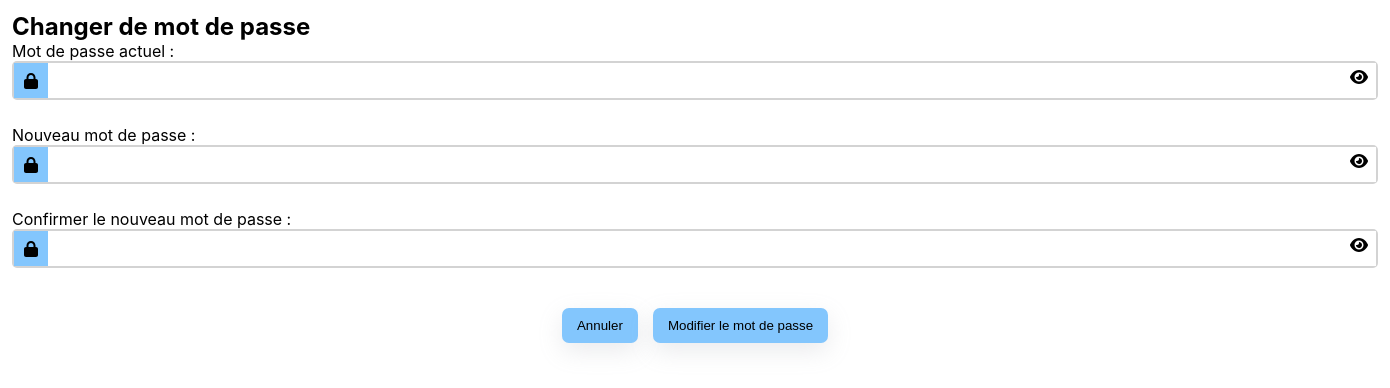
Test case: Modify Account Container › Form submission can't submit updates the error message
Note: Set input values
In the password field with test id "actual-password": (712, 80) [48, 63, 1376, 98], type "actualpassword"
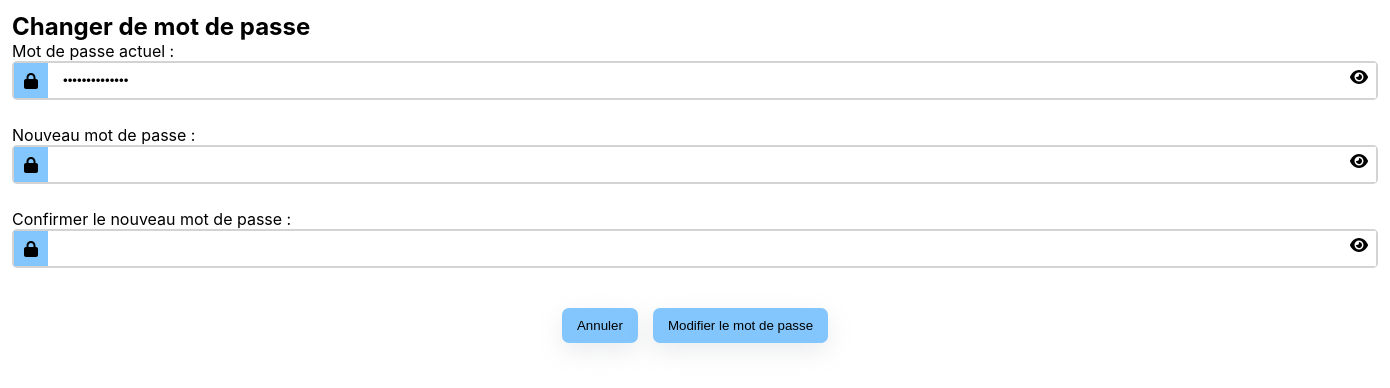
In the password field with test id "new-password": (712, 164) [48, 147, 1376, 182], type "newpassword"
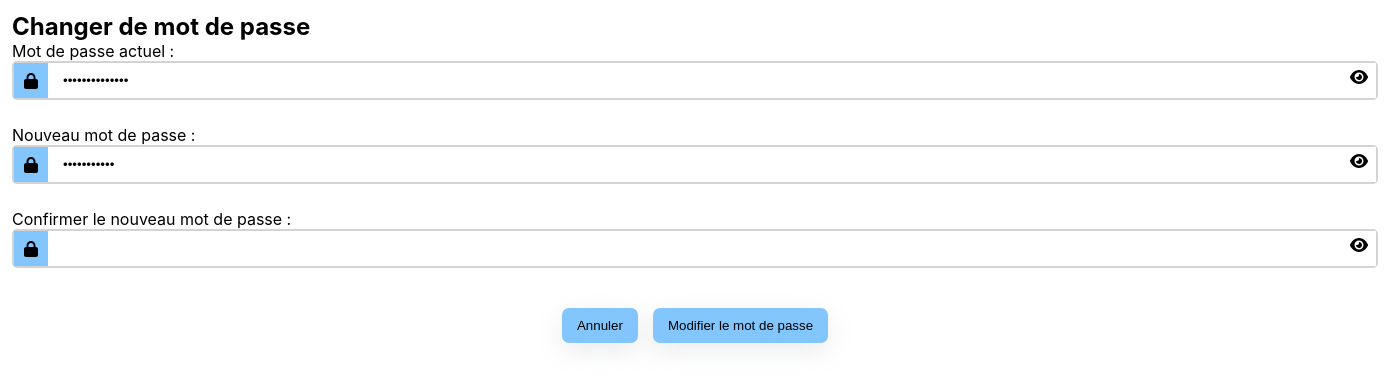
In the password field with test id "confirm-password": (712, 248) [48, 231, 1376, 266], type "newpassword"
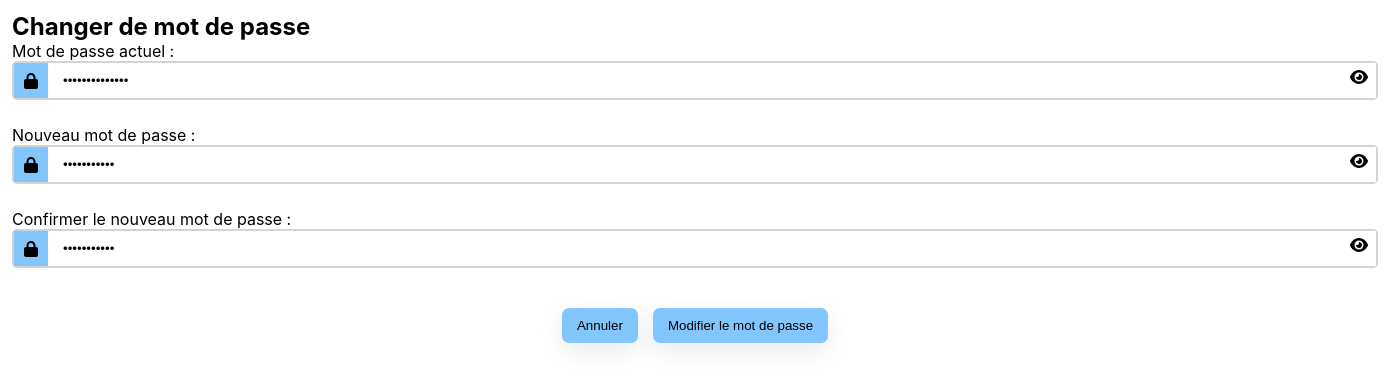
Note: Trigger the form submission
Click the button "Modifier le mot de passe": click(740, 326) [653, 308, 828, 343]
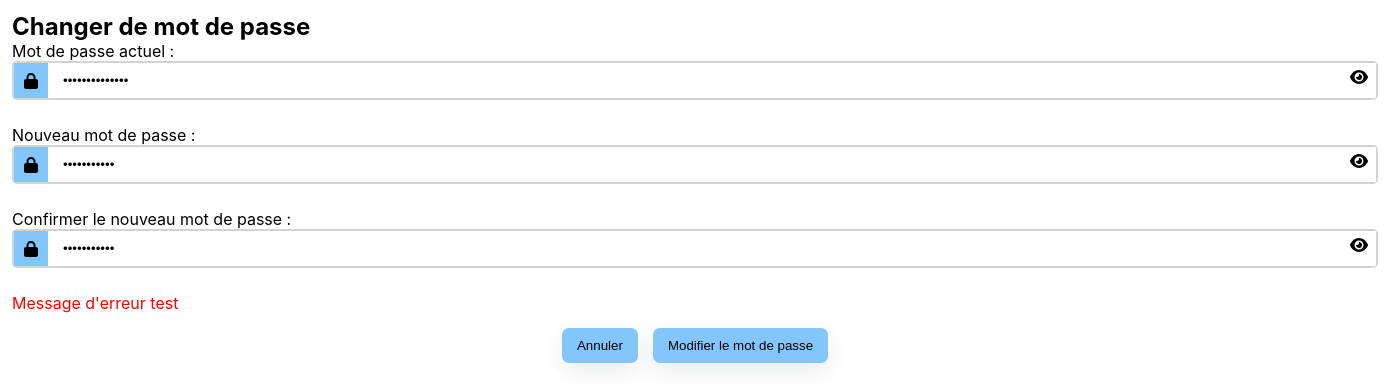
Check: the text with test id "error-message" reads "Message d'erreur test", box [12, 293, 178, 313]
